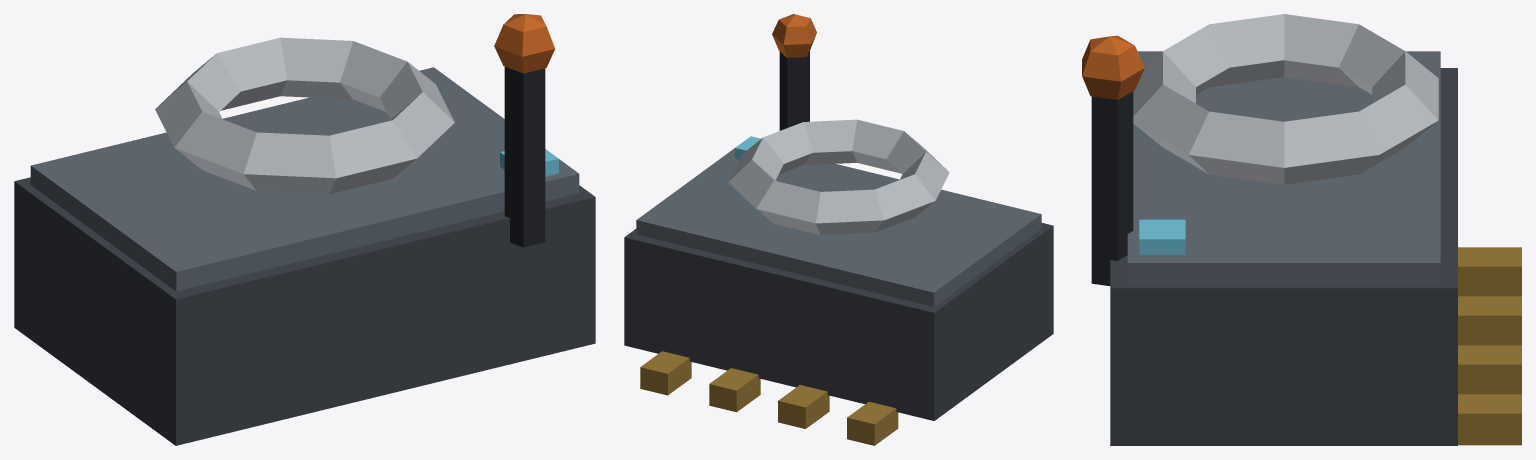
File: droid-enhanced-reconstructor.glb
The picture shows the model from 3 angles, left to right: view 1: azimuth 30°, elevation 25°; view 2: azimuth 150°, elevation 25°; view 3: azimuth 270°, elevation 25°; orthographic projection. The views are drawn at different scales.
Visible parts, largest first — view 1: m; view 2: m; view 3: m.
Boxes of the visible parts, x1=… form: m: x1=14, y1=14, x2=595, y2=445; m: x1=624, y1=14, x2=1053, y2=445; m: x1=1082, y1=14, x2=1521, y2=445.
Size of the model in its own units: 0.1 by 0.0844 by 0.0843.
